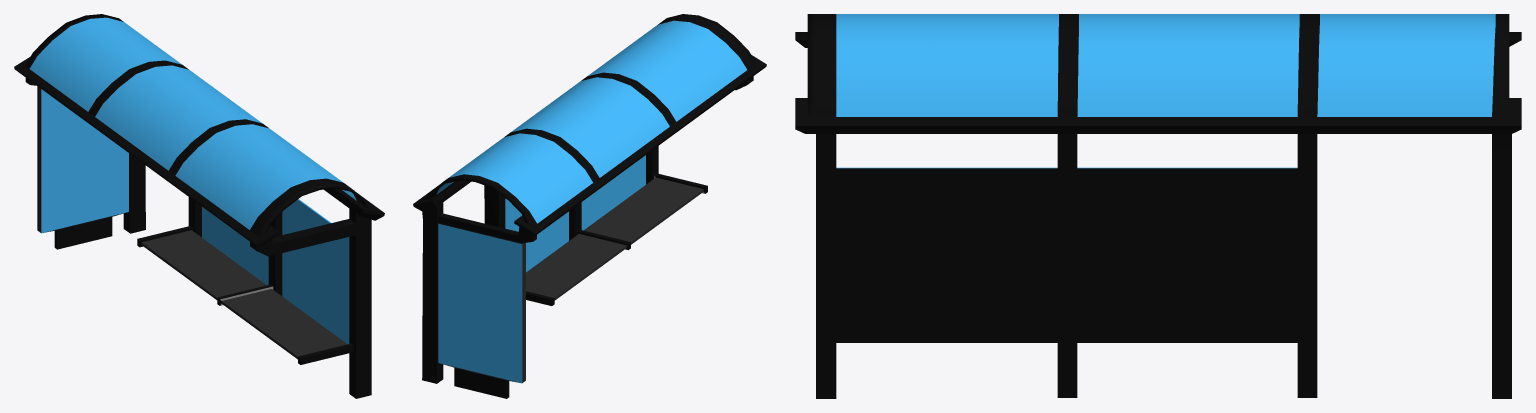
Rendered from BUS shelter.FBX.
3 views of the same model, side by side, from view 1: azimuth 30°, elevation 25°; view 2: azimuth 150°, elevation 25°; view 3: azimuth 270°, elevation 25° (orthographic). The views are drawn at different scales.
Visible parts, largest first — view 1: Box004; view 2: Box004; view 3: Box004.
Boxes of the visible parts, <box> form: Box004: <box>14,14,384,398</box>; Box004: <box>413,14,766,398</box>; Box004: <box>795,14,1521,398</box>.
Bounding box in the file's own units: 45.87 × 76.33 × 150.
